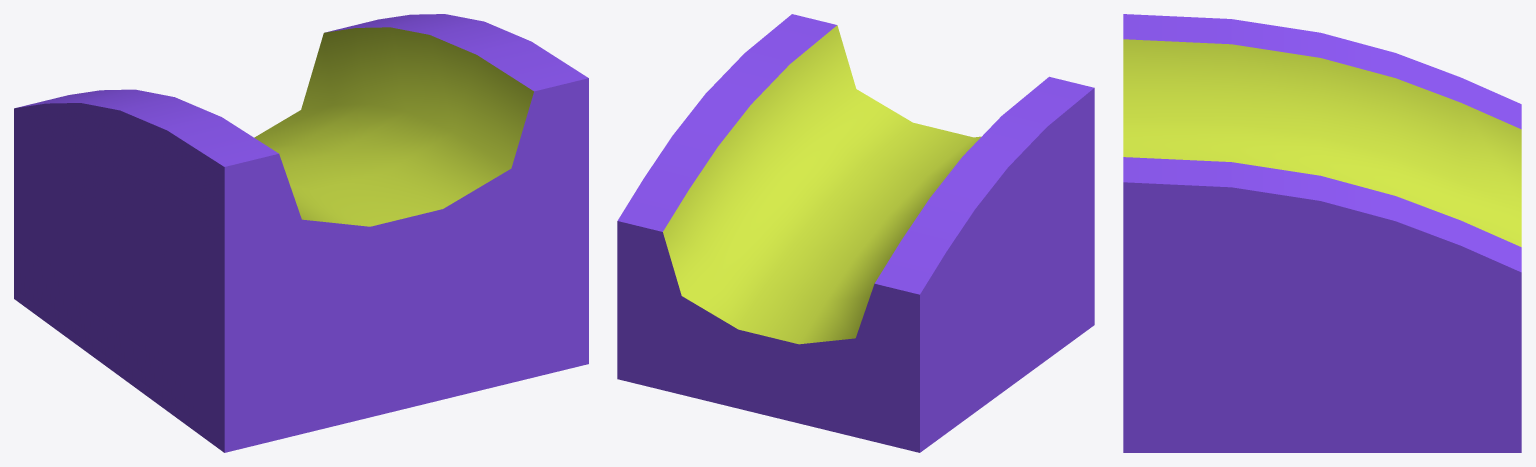
File: rampEnd_solid_B.fbx
3 renders of one model, left to right at view 1: azimuth 30°, elevation 25°; view 2: azimuth 150°, elevation 25°; view 3: azimuth 270°, elevation 25°, orthographic. The views are drawn at different scales.
Visible parts, largest first — view 1: rampEnd_solid_B; view 2: rampEnd_solid_B; view 3: rampEnd_solid_B.
Part boxes in pixels (bbox=[...]): rampEnd_solid_B: bbox=[14, 14, 588, 452]; rampEnd_solid_B: bbox=[617, 14, 1094, 452]; rampEnd_solid_B: bbox=[1123, 14, 1521, 452].
Size of the model in its own units: 10 by 7.5 by 10.
